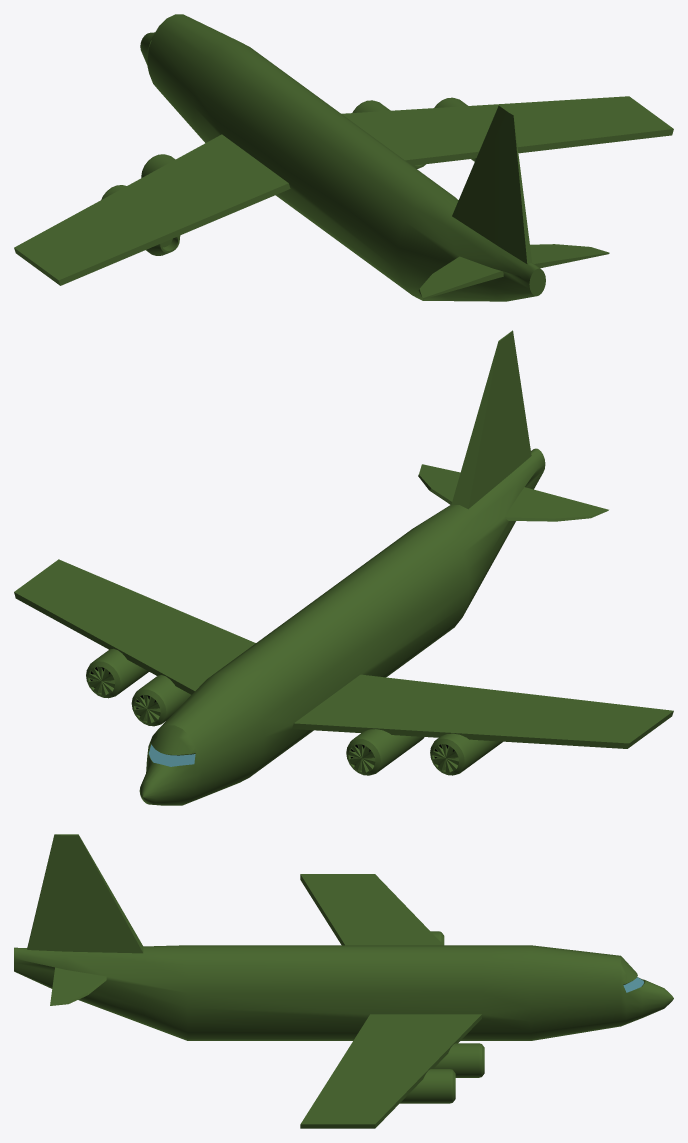
Rendered from military.fbx.
3 renders of one model, top to bottom at view 1: azimuth 30°, elevation 25°; view 2: azimuth 150°, elevation 25°; view 3: azimuth 270°, elevation 25°, orthographic. The views are drawn at different scales.
Visible parts, largest first — view 1: pasted__pasted__pasted__pCylinder2; view 2: pasted__pasted__pasted__pCylinder2; view 3: pasted__pasted__pasted__pCylinder2.
Part boxes in pixels (x1,y1,x2,y2): pasted__pasted__pasted__pCylinder2: (14,14,673,301); pasted__pasted__pasted__pCylinder2: (14,330,673,805); pasted__pasted__pasted__pCylinder2: (14,834,673,1128).
Bounding box in the file's own units: 11.83 × 4.49 × 13.13.
